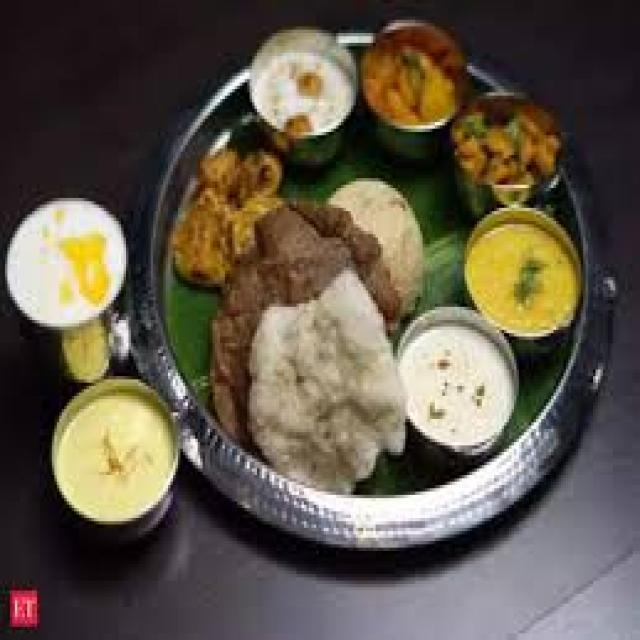curd: (0, 186, 135, 333)
dal: (394, 311, 529, 463), (462, 209, 591, 340)
papad: (236, 264, 411, 487), (195, 183, 430, 321)
sweet: (394, 315, 525, 456), (163, 133, 274, 296), (247, 41, 358, 148)
veg-fry: (358, 16, 467, 143)
